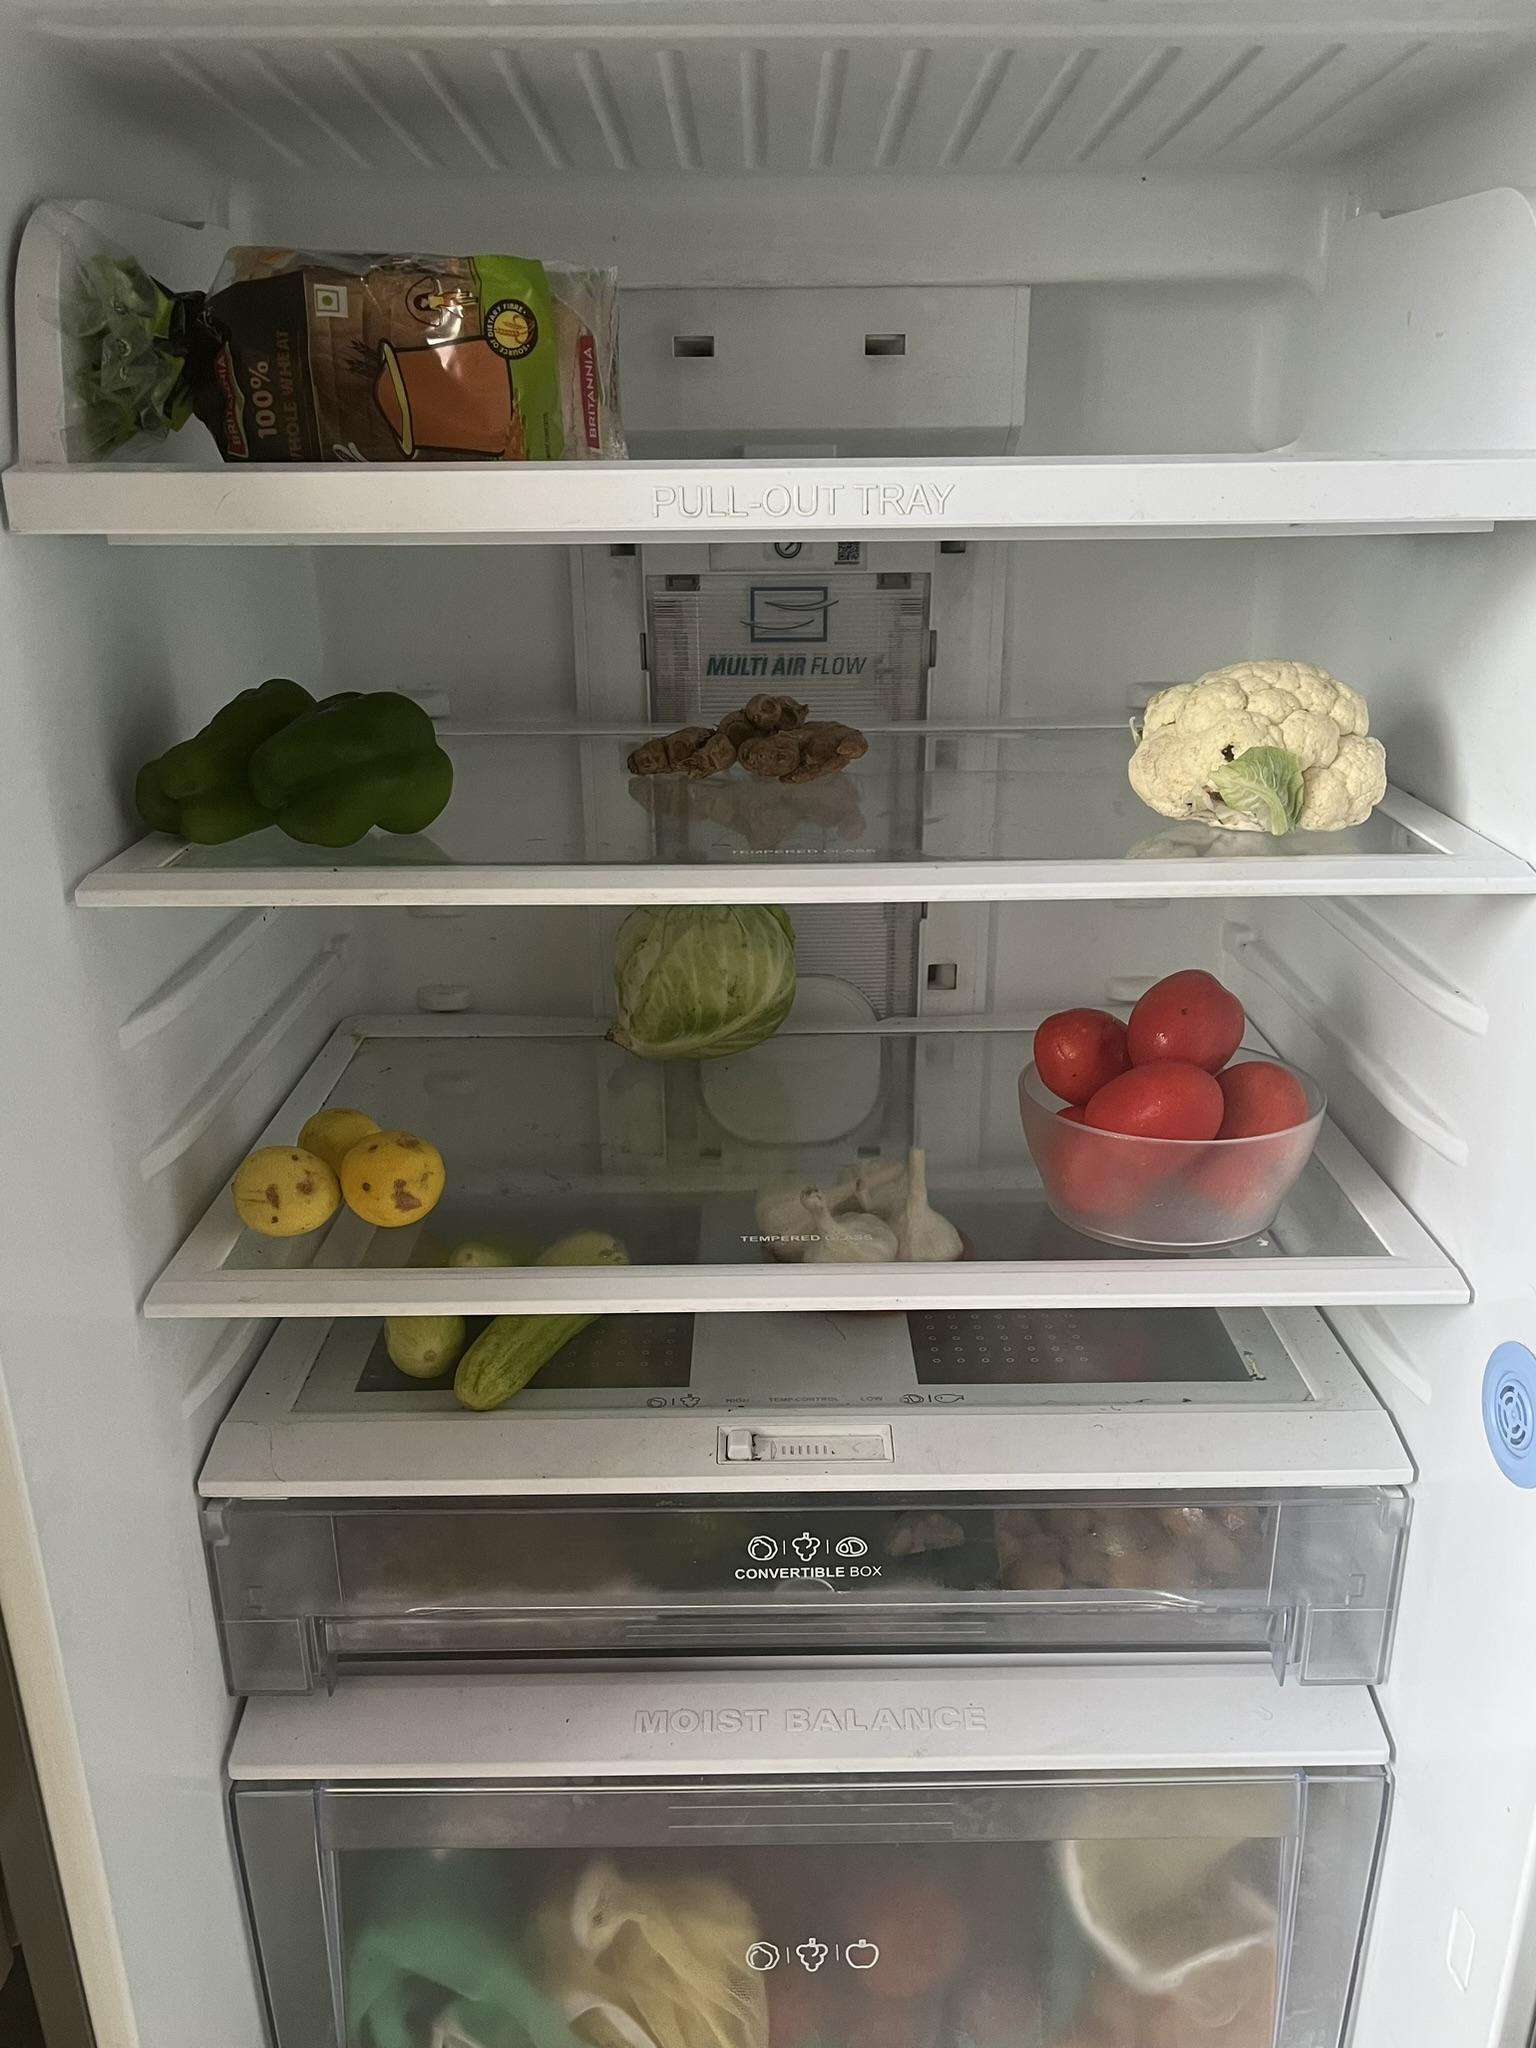bread: (66, 234, 626, 474)
cabbage: (591, 887, 816, 1066)
capsicum: (106, 669, 463, 853)
cauliflower: (1117, 653, 1400, 847)
cucumber: (376, 1237, 663, 1400)
garlic: (747, 1130, 991, 1266)
ginger: (616, 687, 879, 810)
lemon: (226, 1100, 460, 1243)
tomato: (1013, 959, 1336, 1247)
